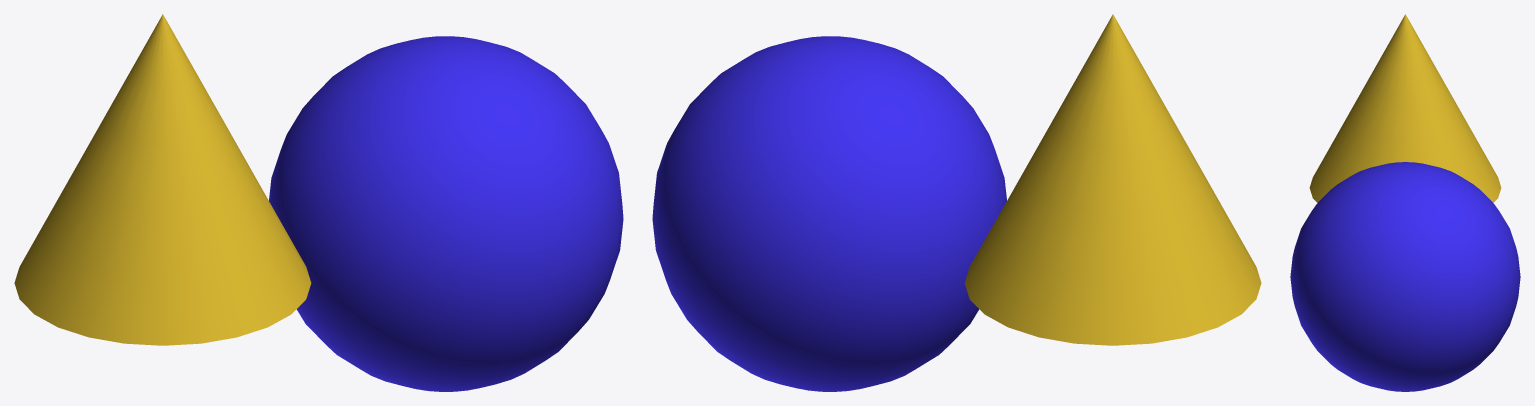
File: double.FBX
The picture shows the model from 3 angles, left to right: view 1: azimuth 30°, elevation 25°; view 2: azimuth 150°, elevation 25°; view 3: azimuth 270°, elevation 25°; orthographic projection. The views are drawn at different scales.
Parts seen in each view (by area): view 1: Sphere001, Cone001; view 2: Sphere001, Cone001; view 3: Sphere001, Cone001.
Boxes of the visible parts, box(x1,y1,x2,y2) form: Sphere001: box(269, 36, 623, 391); Cone001: box(14, 14, 311, 345); Sphere001: box(652, 36, 1006, 391); Cone001: box(964, 14, 1261, 345); Sphere001: box(1290, 162, 1520, 391); Cone001: box(1309, 14, 1501, 202).
Size of the model in its own units: 44 by 32 by 24.
